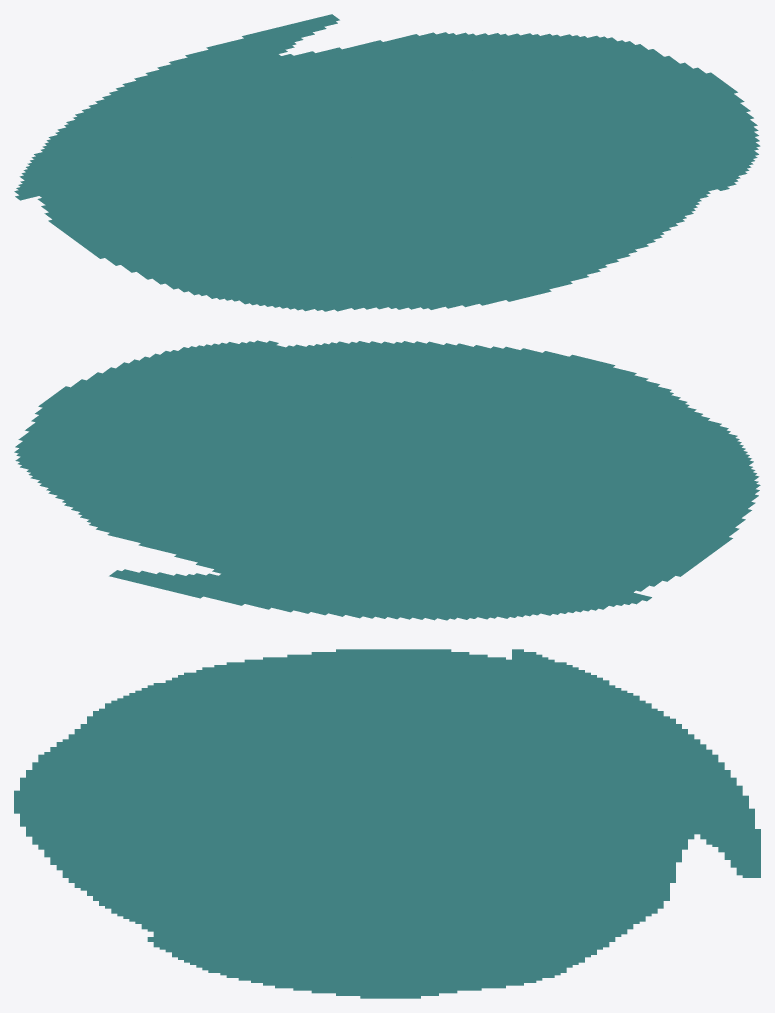
File: SM_LakeSurface.fbx
3 renders of one model, top to bottom at view 1: azimuth 30°, elevation 25°; view 2: azimuth 150°, elevation 25°; view 3: azimuth 270°, elevation 25°, orthographic. The views are drawn at different scales.
Visible parts, largest first — view 1: SM_LakeSurface; view 2: SM_LakeSurface; view 3: SM_LakeSurface.
Boxes of the visible parts, x1,y1,x2,y2 form: SM_LakeSurface: (14, 14, 760, 311); SM_LakeSurface: (14, 340, 760, 620); SM_LakeSurface: (14, 649, 760, 998).
Bounding box in the file's own units: 410 × 1.62e-05 × 371.
